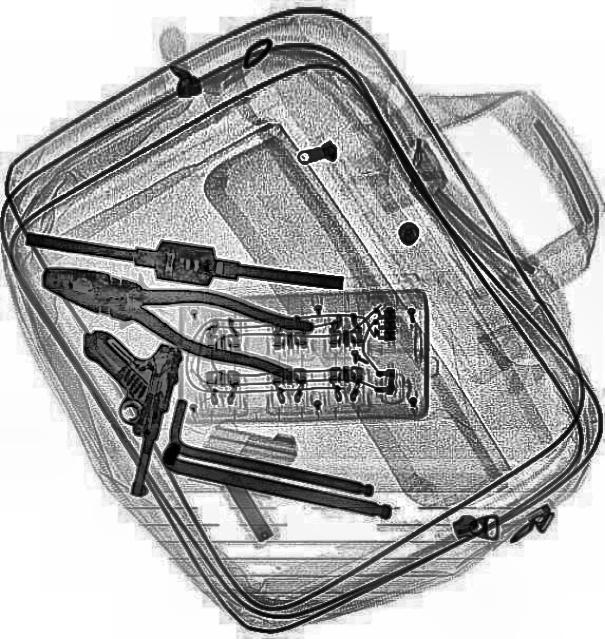Gun: (46, 322, 187, 500)
Pliers: (31, 246, 315, 382)
